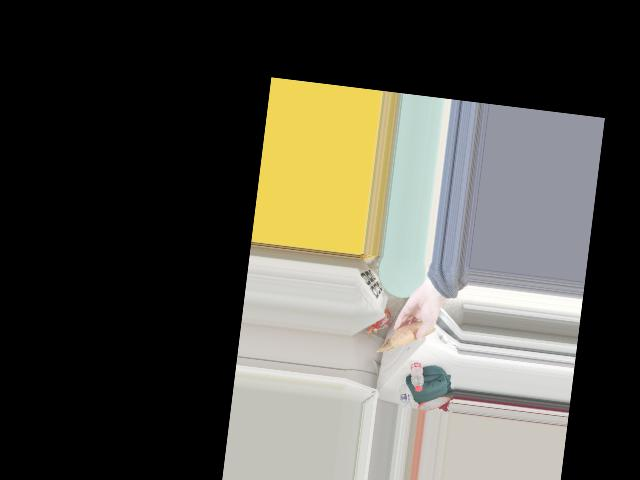sweet_potato: (391, 318, 427, 349)
